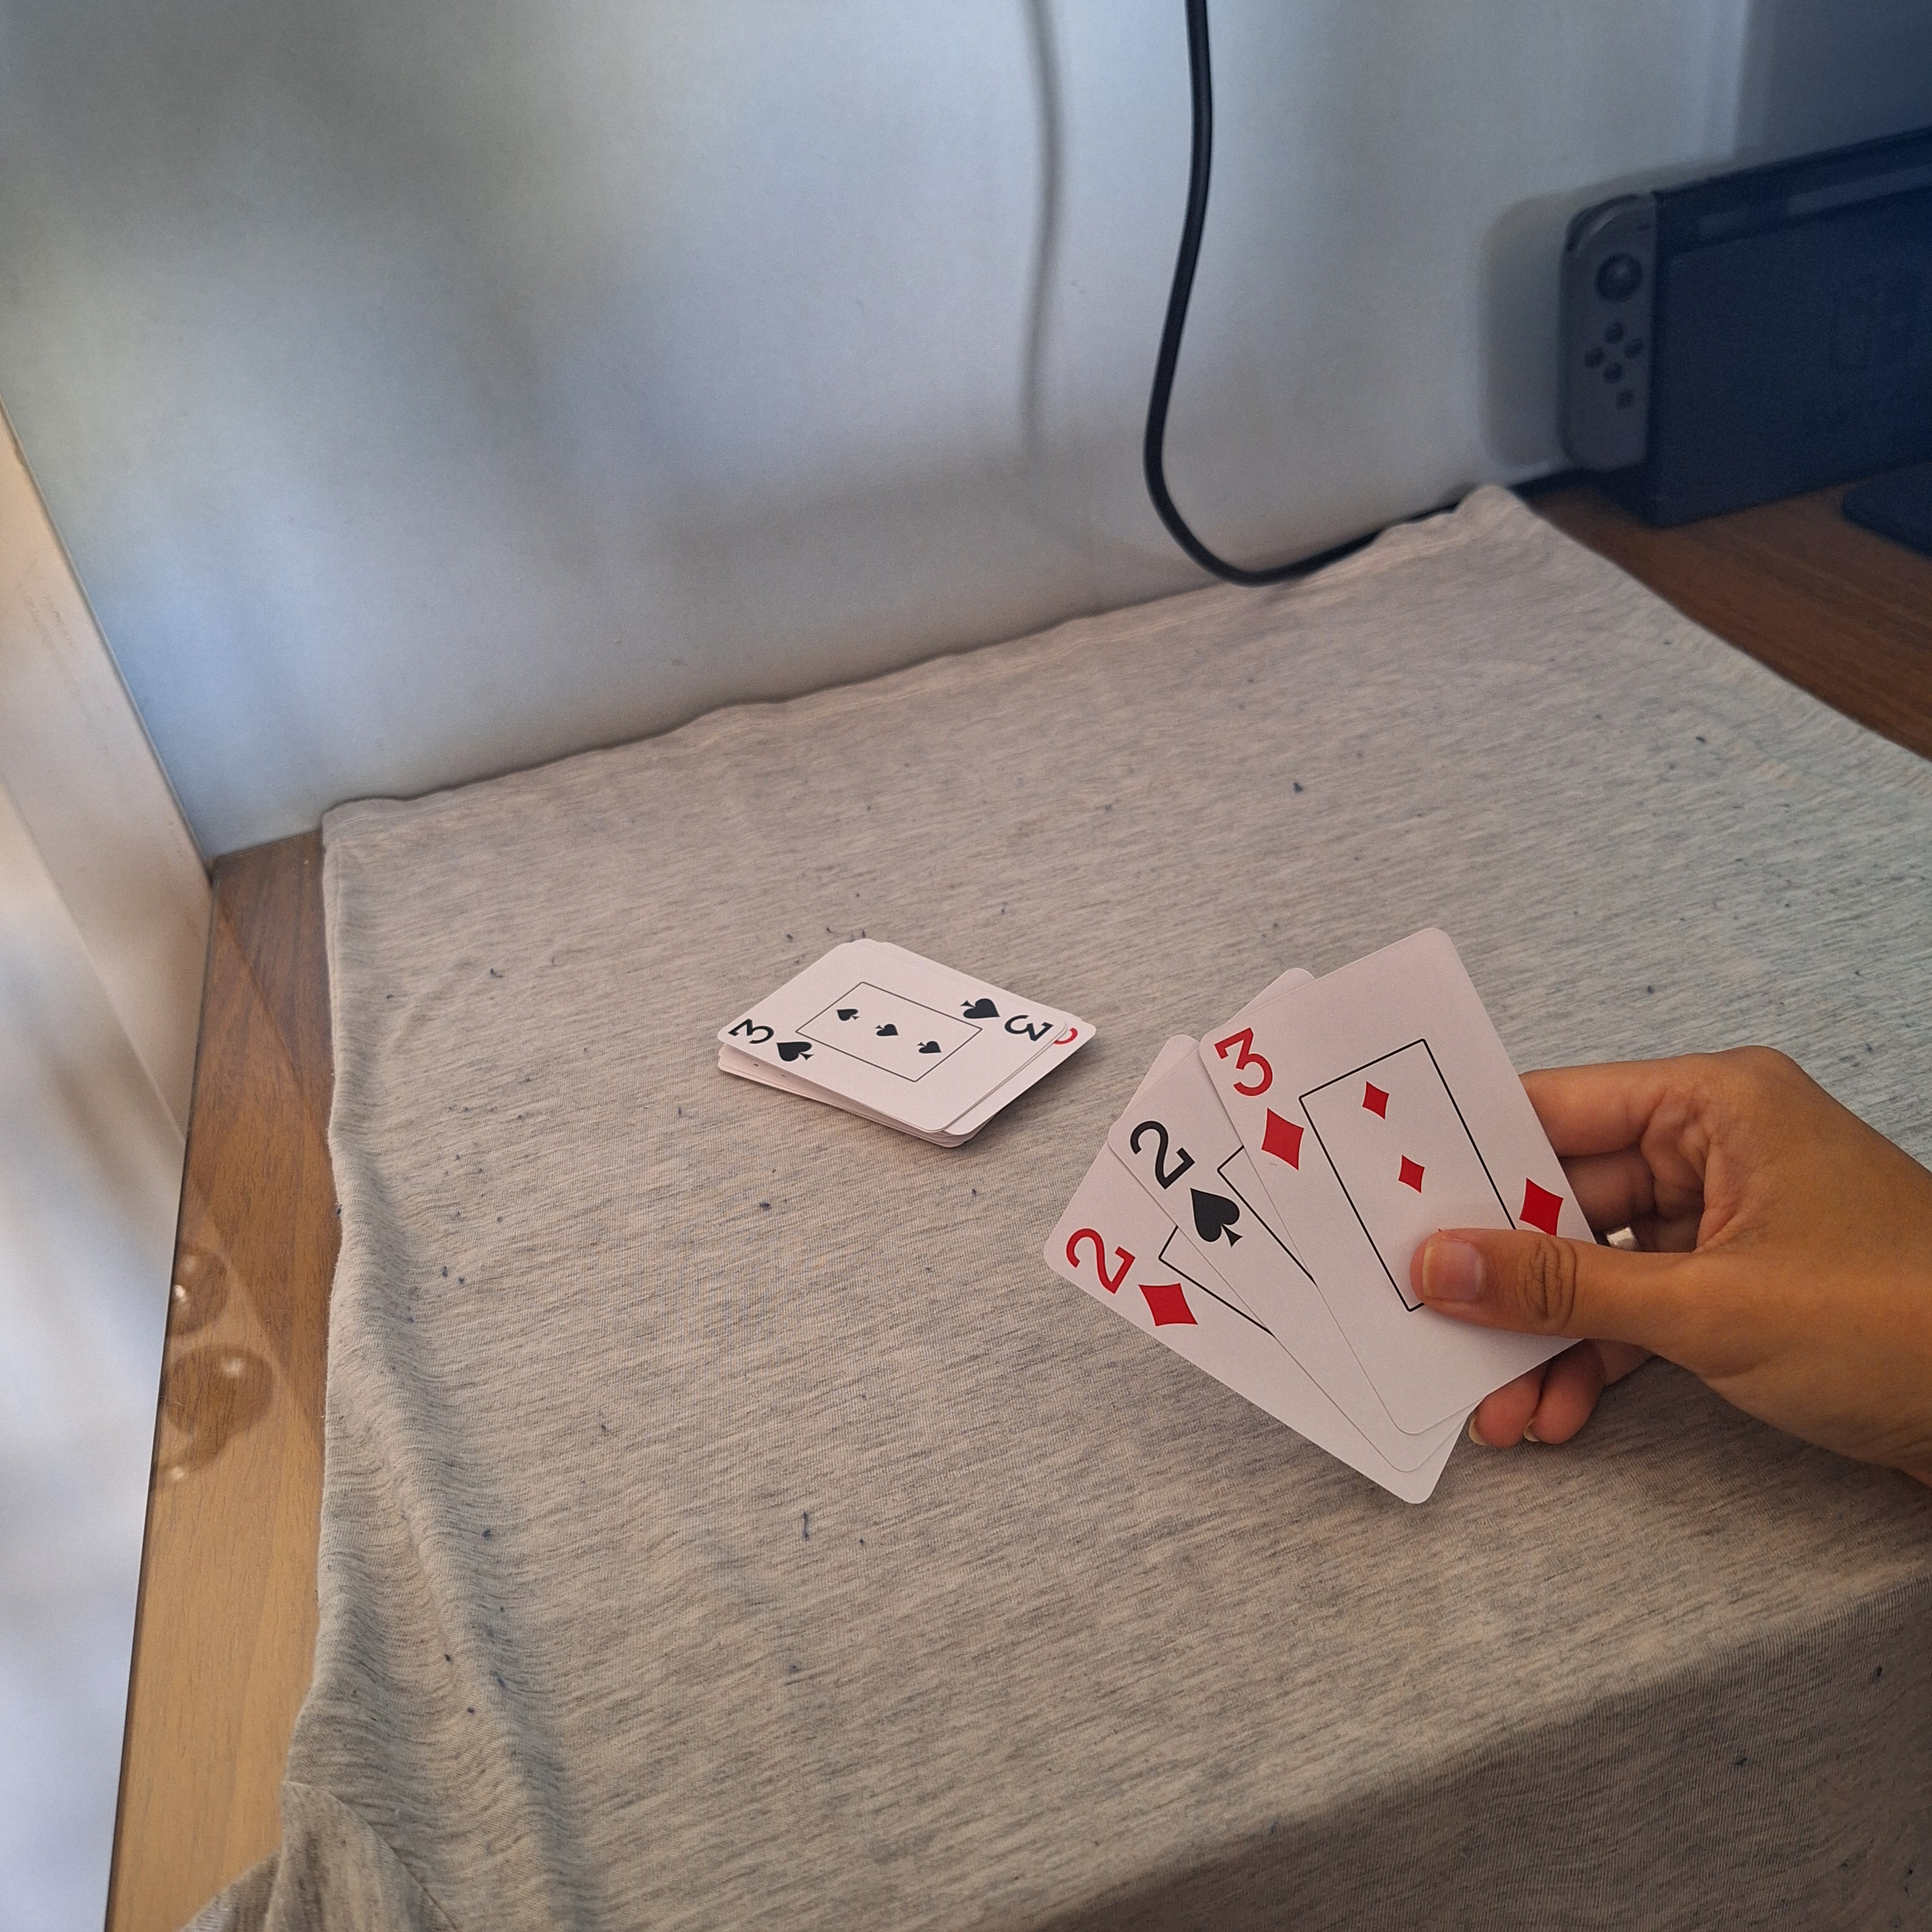2E: (1125, 1116, 1246, 1249)
2O: (1056, 1224, 1200, 1329)
3E: (722, 1014, 817, 1070), (957, 991, 1054, 1044)
3O: (1210, 1024, 1311, 1173)
